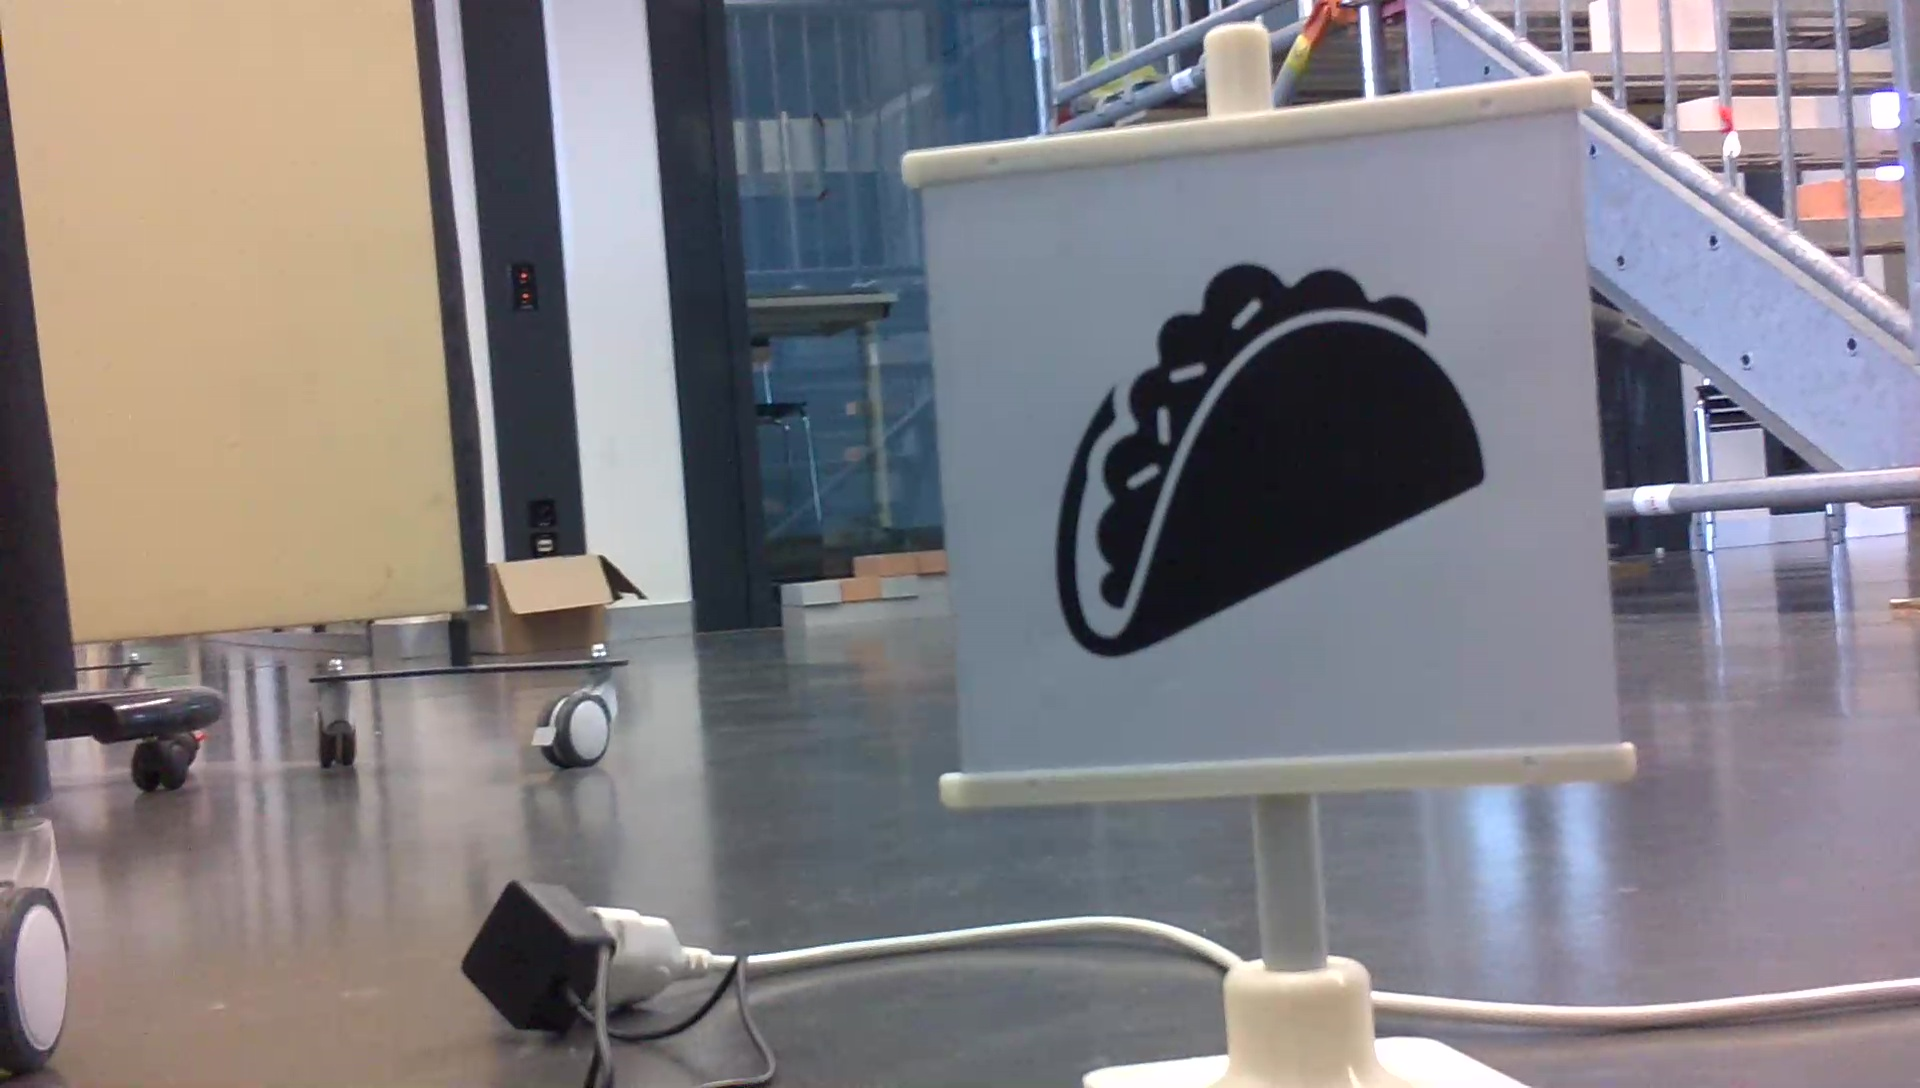taco: (1048, 253, 1493, 663)
